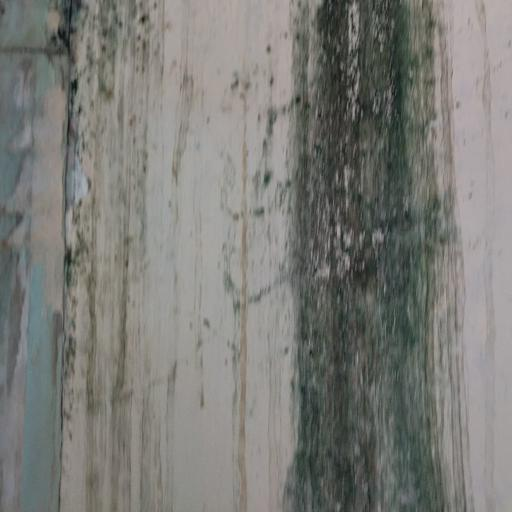algae: (232, 10, 512, 512)
